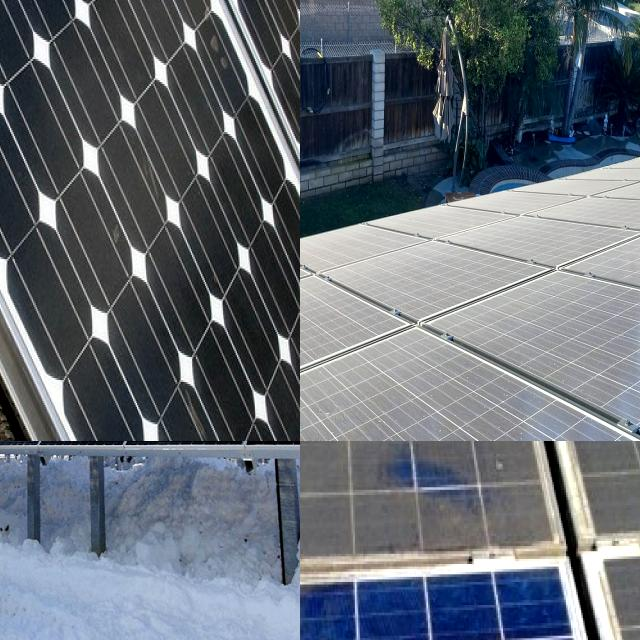crack: (0, 0, 300, 441), (0, 0, 209, 441)
dust: (375, 477, 564, 562), (532, 289, 640, 398), (340, 441, 536, 494), (300, 392, 510, 441), (300, 479, 406, 573), (333, 228, 444, 315), (488, 201, 594, 257), (300, 441, 392, 501), (561, 441, 640, 507), (300, 266, 342, 368), (604, 170, 640, 274), (603, 542, 640, 605), (382, 342, 446, 378), (521, 395, 559, 441)
panel: (88, 441, 156, 466), (153, 441, 219, 463), (14, 441, 111, 454), (0, 441, 37, 463), (0, 441, 23, 453), (0, 441, 21, 453)
